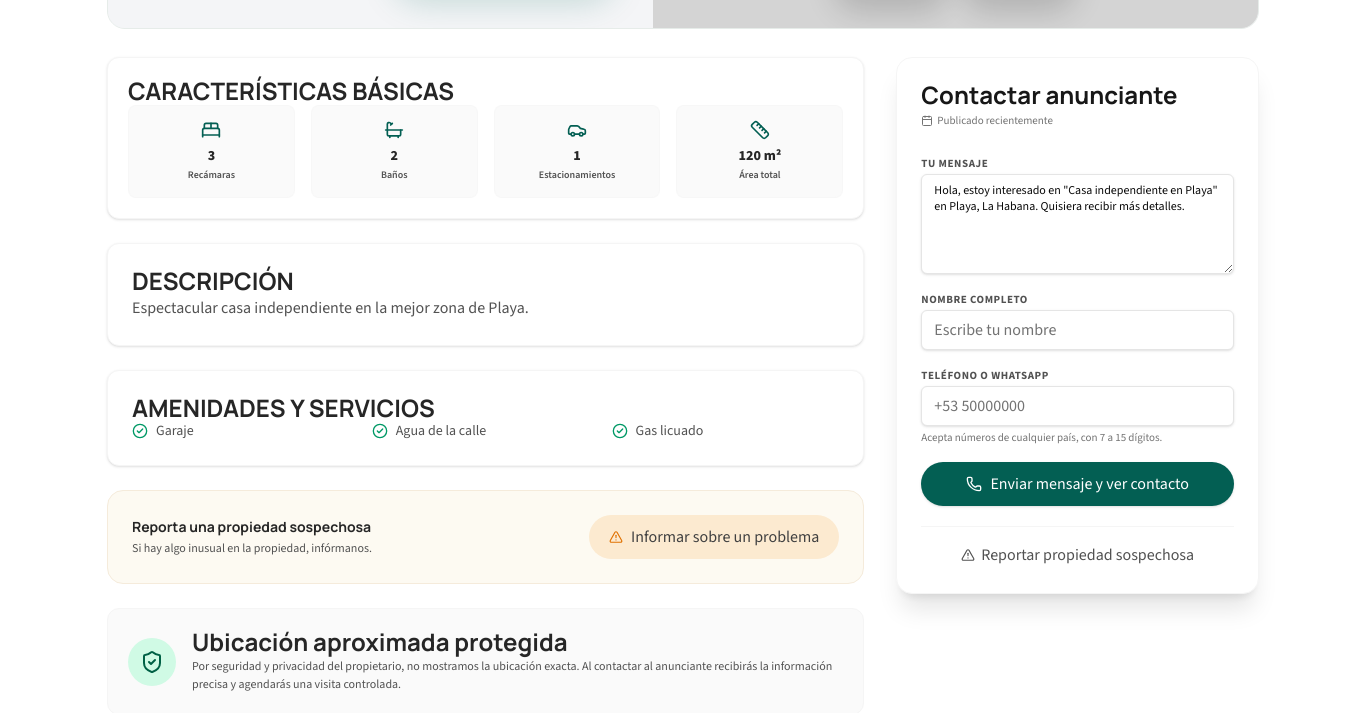
it: DetailPage - Reportes y Visor › debería guardar una consulta de contacto y mostrar confirmación
(page scrolled)
Type "Ana Pérez" into the field labelled "Nombre completo" at {"x": 1078, "y": 330}, box [921,310,1234,350]
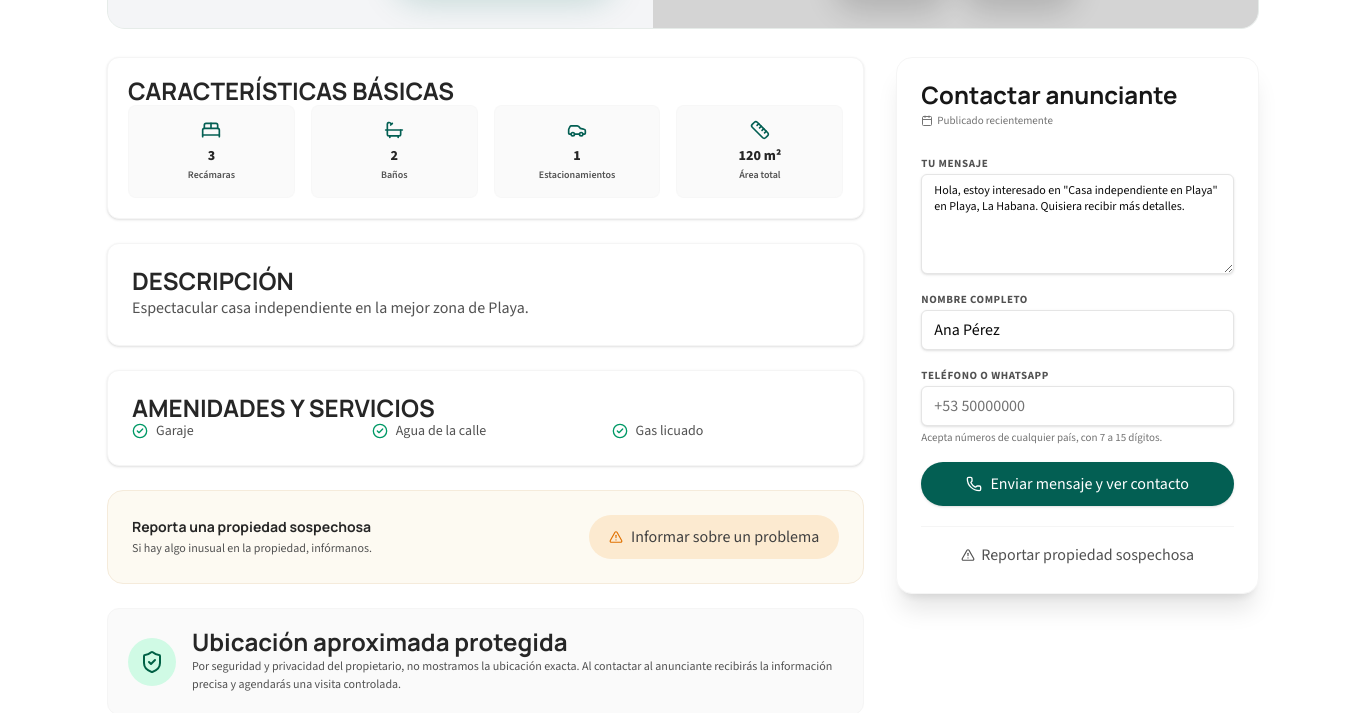
Type "+53 51234567" into the field labelled "Teléfono o WhatsApp" at {"x": 1078, "y": 406}, box [921,386,1234,426]
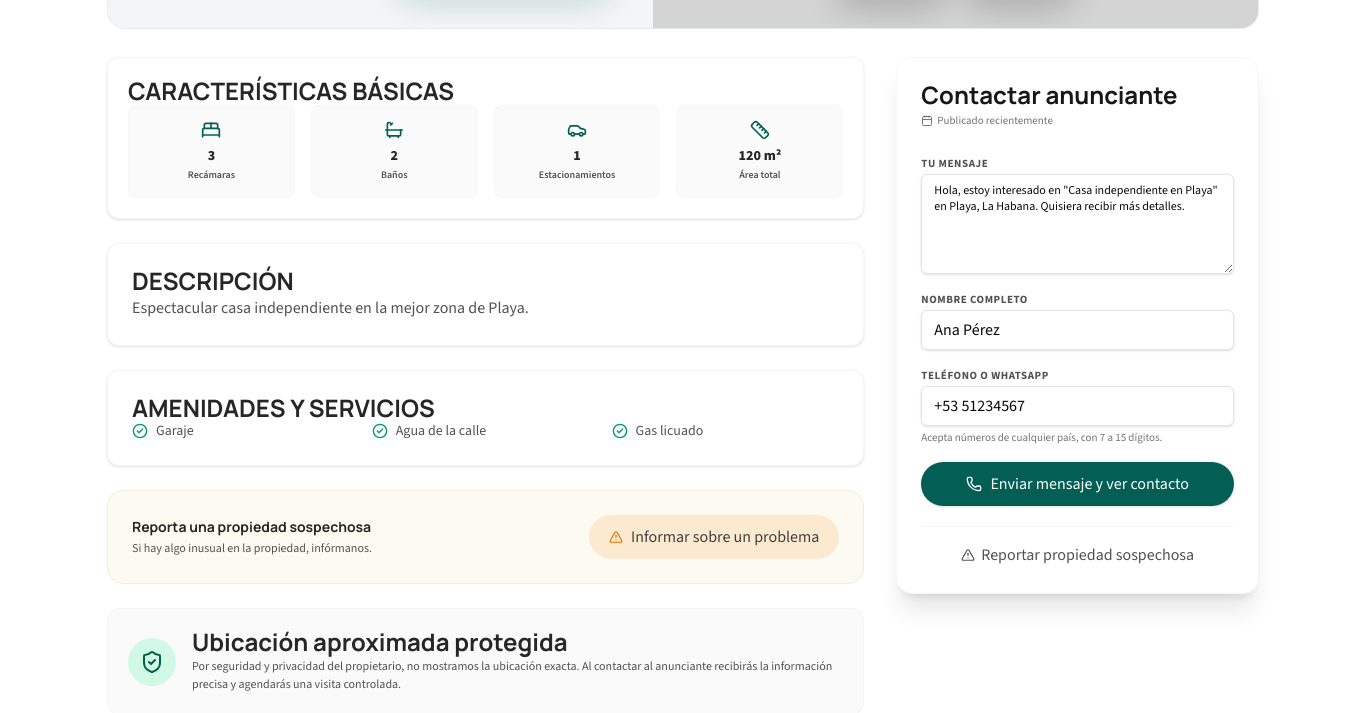
Click the button "Enviar mensaje y ver contacto" at {"x": 1078, "y": 484}, box [921,462,1234,506]
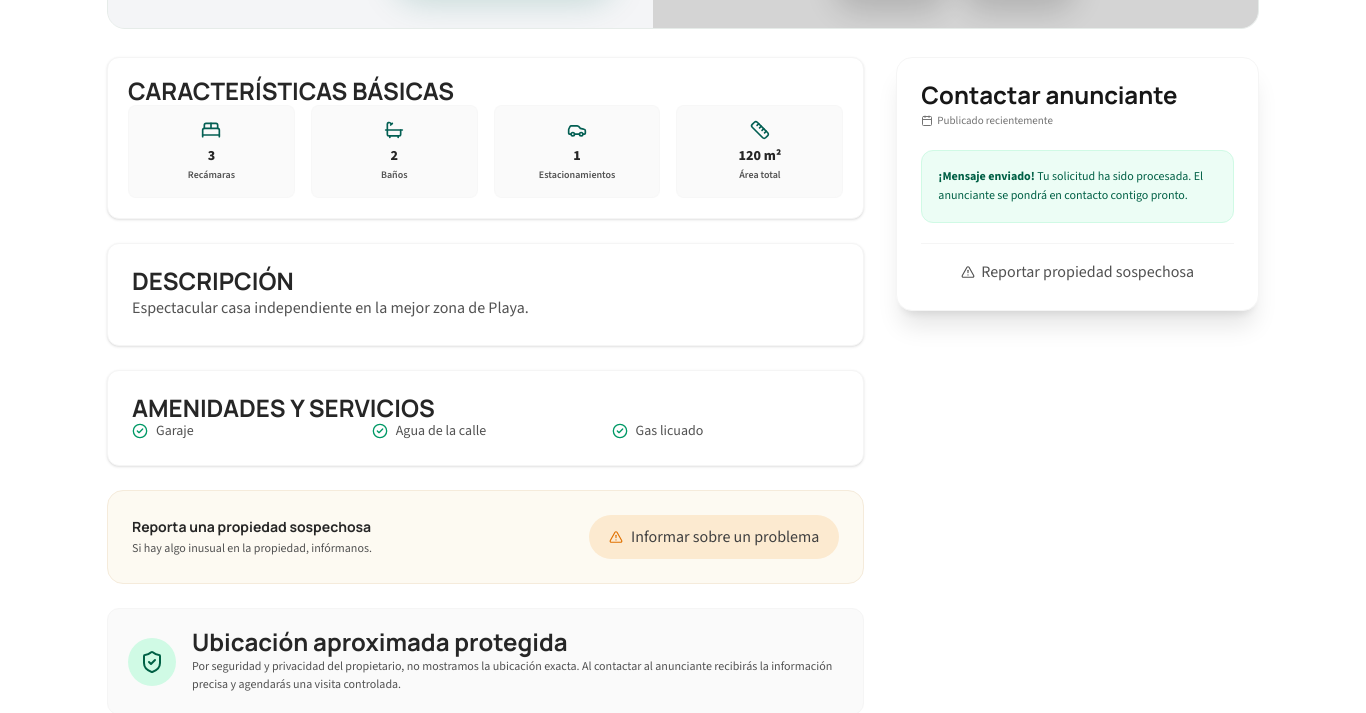
Check: the text "¡Mensaje enviado!" is shown, box [938,168,1035,185]
